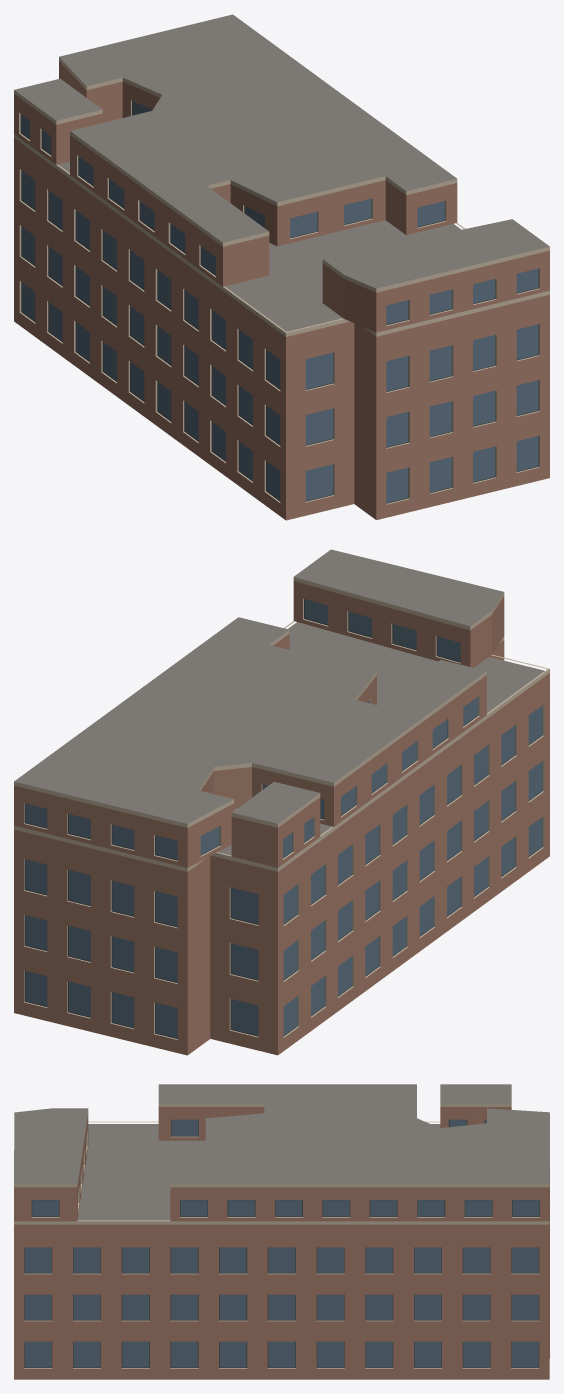
Rendered from dc-au-beeghly-building.detail.glb.
The picture shows the model from 3 angles, top to bottom: view 1: azimuth 30°, elevation 25°; view 2: azimuth 150°, elevation 25°; view 3: azimuth 270°, elevation 25°; orthographic projection. The views are drawn at different scales.
Parts seen in each view (by area): view 1: Beeghly Building; view 2: Beeghly Building; view 3: Beeghly Building.
Part boxes in pixels (box(x1,y1,x2,y2)): Beeghly Building: box(14, 14, 549, 520); Beeghly Building: box(14, 549, 549, 1055); Beeghly Building: box(14, 1084, 549, 1379).
Size of the model in its own units: 20.08 by 18.4 by 45.69.
